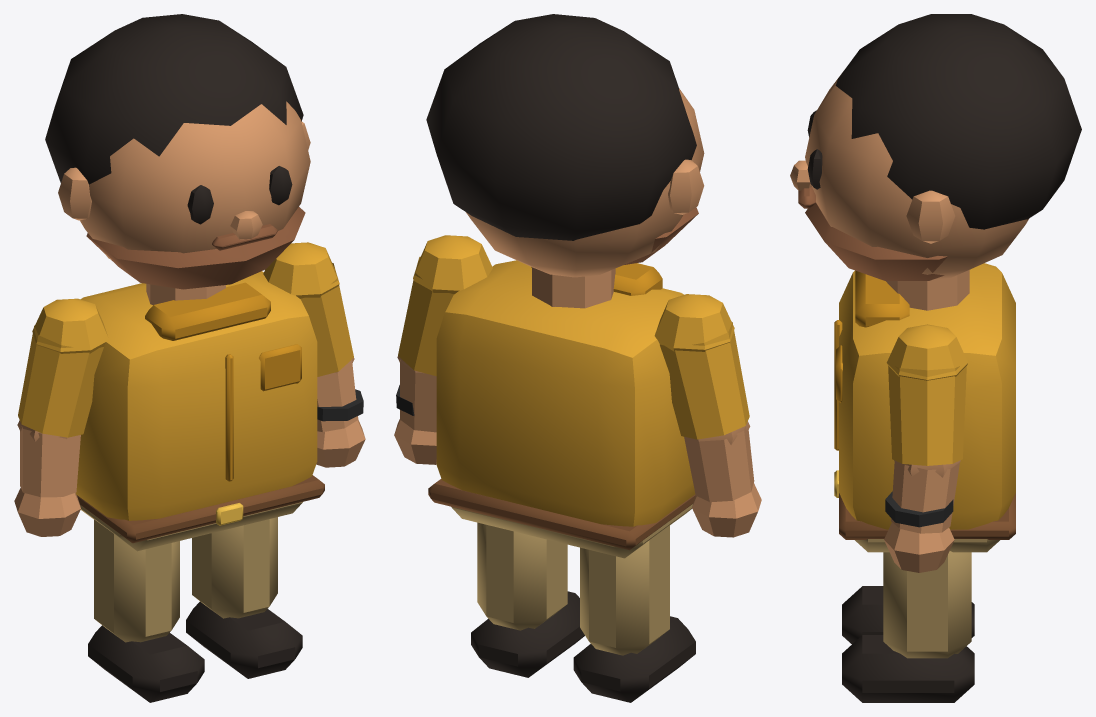
The model's file is lakhan.glb.
3 views of the same model, side by side, from view 1: azimuth 30°, elevation 25°; view 2: azimuth 150°, elevation 25°; view 3: azimuth 270°, elevation 25° (orthographic). The views are drawn at different scales.
Visible parts, largest first — view 1: head, body, arm_r, leg_r, leg_l, arm_l; view 2: body, head, arm_r, leg_r, leg_l, arm_l; view 3: head, body, arm_l, leg_l, leg_r.
Part boxes in pixels (x1,y1,x2,y2): head: [45, 14, 310, 289]; body: [76, 271, 324, 551]; arm_r: [14, 298, 108, 536]; leg_r: [88, 519, 204, 702]; leg_l: [186, 517, 302, 678]; arm_l: [263, 242, 365, 467]; body: [428, 260, 695, 558]; head: [426, 14, 704, 277]; arm_r: [654, 294, 761, 537]; leg_r: [573, 525, 695, 702]; leg_l: [471, 522, 584, 677]; arm_l: [394, 235, 492, 464]; head: [790, 14, 1081, 280]; body: [834, 263, 1015, 552]; arm_l: [884, 324, 968, 572]; leg_l: [842, 551, 974, 702]; leg_r: [842, 586, 974, 643].
Size of the model in its own units: 0.61 by 1.06 by 0.4376.
Materials: 1 (1 with a texture image).
